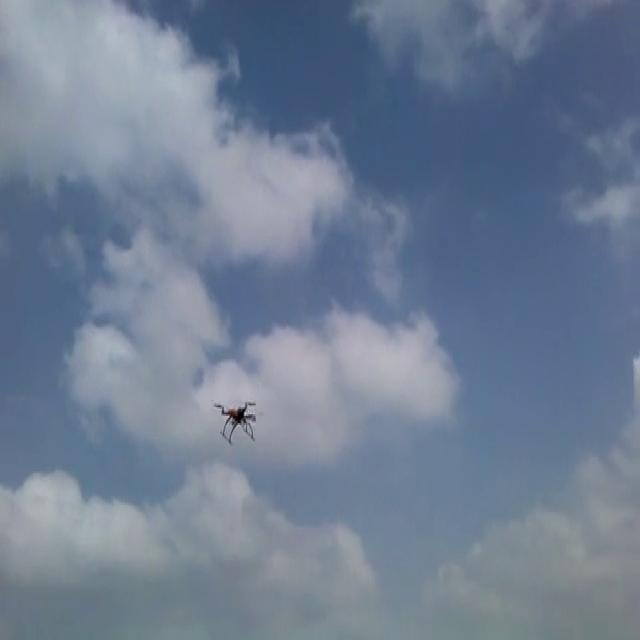drone: (214, 393, 258, 443)
